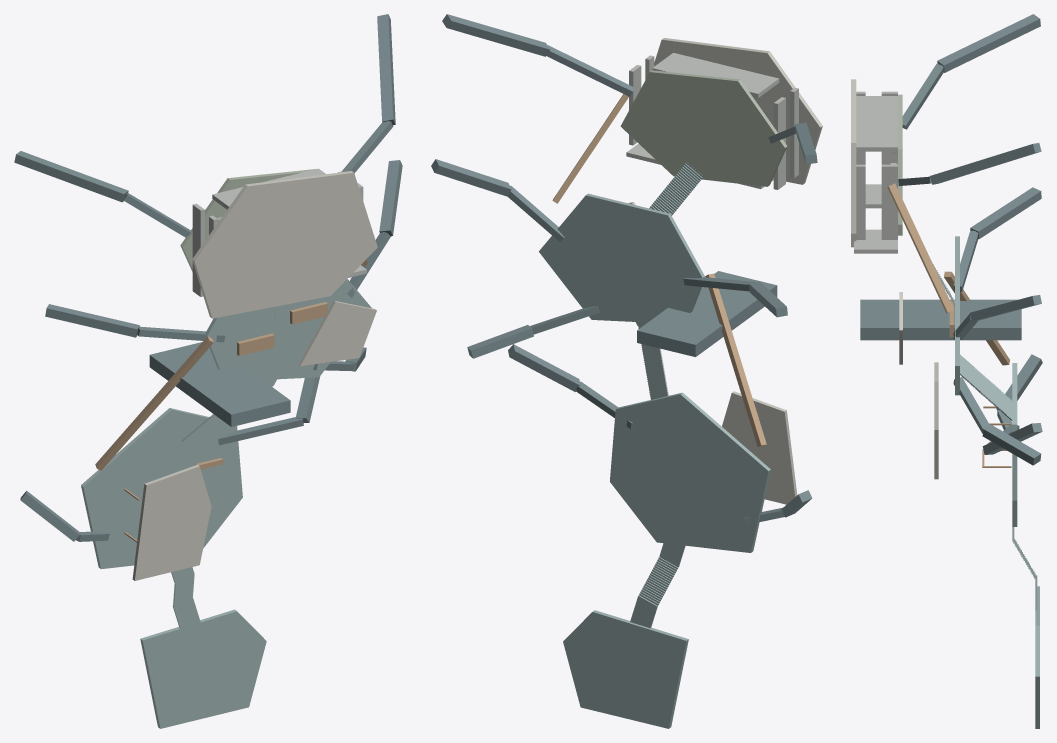
Rendered from broken_blocked.glb.
3 renders of one model, left to right at view 1: azimuth 30°, elevation 25°; view 2: azimuth 150°, elevation 25°; view 3: azimuth 270°, elevation 25°, orthographic.
Parts seen in each view (by area): view 1: living_roof, maker_deck, arrival_terrace, maker_weather_canopy, research_deck, malicious_sightline_blocker, research_partial_daylight_shade, shared_maker_research_transfer, living_rib_0_upper, living_rib_1_upper, living_deck, research_rib_0_upper (+9 smaller); view 2: maker_deck, research_deck, living_deck, arrival_terrace, malicious_sightline_blocker, living_roof, maker_weather_canopy, living_rear, shared_maker_research_transfer, living_rib_1_upper, research_rib_1_upper, maker_rib_1_upper (+9 smaller); view 3: malicious_sightline_blocker, living_rear, living_rib_0_upper, shared_research_living_transfer, living_rib_1_upper, living_east_lower, research_rib_0_upper, living_roof, research_rib_2_upper, maker_deck, living_rib_0_lower, living_front_right (+12 smaller).
Part boxes in pixels (bbox=[...]): living_roof: bbox=[192, 171, 377, 318]; maker_deck: bbox=[81, 408, 242, 569]; arrival_terrace: bbox=[140, 609, 266, 728]; maker_weather_canopy: bbox=[132, 464, 211, 580]; research_deck: bbox=[205, 279, 371, 379]; malicious_sightline_blocker: bbox=[149, 342, 290, 426]; research_partial_daylight_shade: bbox=[298, 300, 376, 366]; shared_maker_research_transfer: bbox=[95, 336, 213, 470]; living_rib_0_upper: bbox=[14, 151, 128, 202]; living_rib_1_upper: bbox=[377, 14, 395, 125]; living_deck: bbox=[180, 169, 315, 271]; research_rib_0_upper: bbox=[45, 304, 139, 337]; maker_deck: bbox=[610, 392, 770, 552]; research_deck: bbox=[539, 193, 705, 322]; living_deck: bbox=[620, 70, 787, 186]; arrival_terrace: bbox=[563, 610, 688, 728]; malicious_sightline_blocker: bbox=[637, 271, 777, 356]; living_roof: bbox=[654, 38, 822, 184]; maker_weather_canopy: bbox=[722, 391, 797, 504]; living_rear: bbox=[652, 53, 779, 97]; shared_maker_research_transfer: bbox=[705, 273, 766, 446]; living_rib_1_upper: bbox=[442, 14, 550, 56]; research_rib_1_upper: bbox=[431, 159, 511, 196]; maker_rib_1_upper: bbox=[508, 344, 580, 391]; malicious_sightline_blocker: bbox=[860, 299, 1021, 340]; living_rear: bbox=[856, 96, 897, 151]; living_rib_0_upper: bbox=[937, 14, 1040, 72]; shared_research_living_transfer: bbox=[887, 183, 954, 313]; living_rib_1_upper: bbox=[930, 143, 1041, 184]; living_east_lower: bbox=[881, 164, 897, 239]; research_rib_0_upper: bbox=[970, 187, 1041, 238]; living_roof: bbox=[851, 79, 856, 247]; research_rib_2_upper: bbox=[982, 424, 1041, 465]; maker_deck: bbox=[1012, 363, 1017, 526]; living_rib_0_lower: bbox=[902, 63, 943, 129]; living_front_right: bbox=[854, 229, 897, 253].
Size of the model in its own units: 65.72 by 107 by 28.49.
